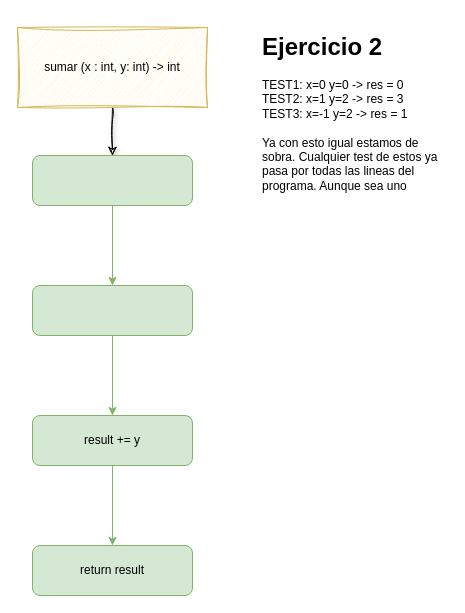
This 465x613 diagram has some shape labels left out. Here are the shapes that lost their labels. From the top down, the centre of each, then its label:
At [112,180]: "result = 0".
At [112,310]: "result += x".
